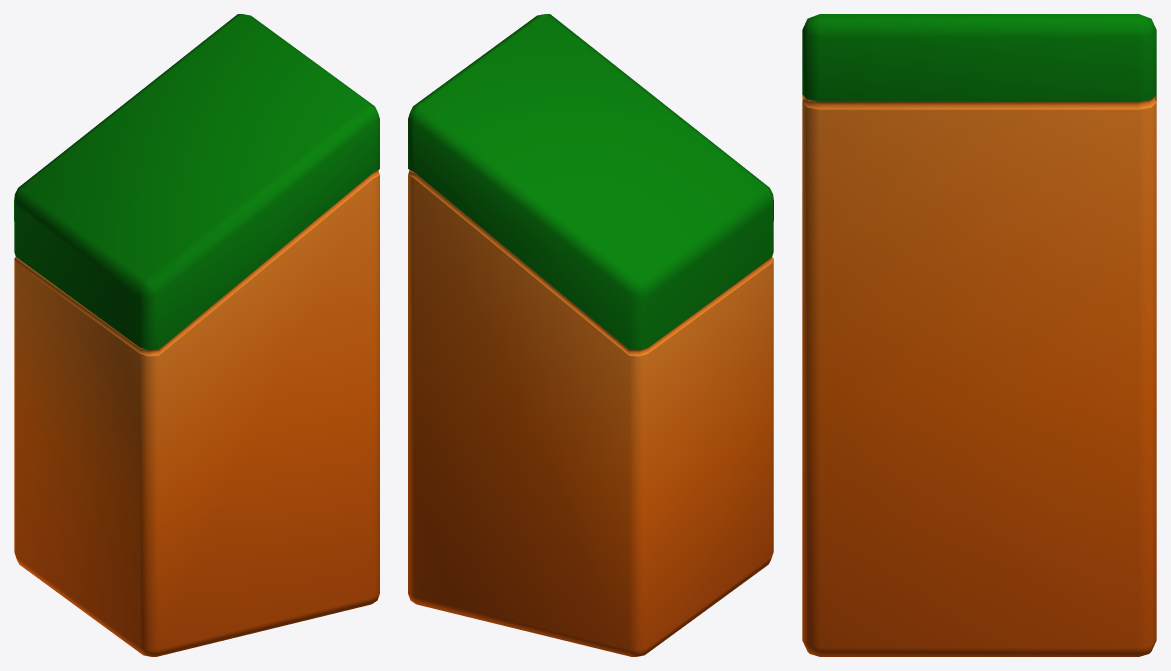
File: 3D_Tile_Ground_01x02v02.fbx
The picture shows the model from 3 angles, left to right: view 1: azimuth 30°, elevation 25°; view 2: azimuth 150°, elevation 25°; view 3: azimuth 270°, elevation 25°; orthographic projection. The views are drawn at different scales.
Visible parts, largest first — view 1: 3D_Tile_Ground_01x02v02; view 2: 3D_Tile_Ground_01x02v02; view 3: 3D_Tile_Ground_01x02v02.
Part boxes in pixels (x1,y1,x2,y2): 3D_Tile_Ground_01x02v02: [14, 14, 379, 656]; 3D_Tile_Ground_01x02v02: [408, 14, 773, 656]; 3D_Tile_Ground_01x02v02: [802, 14, 1156, 656].
Size of the model in its own units: 200 by 400 by 200.
